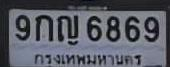6: (124, 15, 139, 41), (86, 15, 101, 40)
8: (105, 15, 119, 41)
9: (143, 15, 158, 41), (15, 14, 29, 40)
A01: (34, 14, 52, 41)
A13: (57, 14, 80, 47)
BKK: (30, 49, 144, 67)
